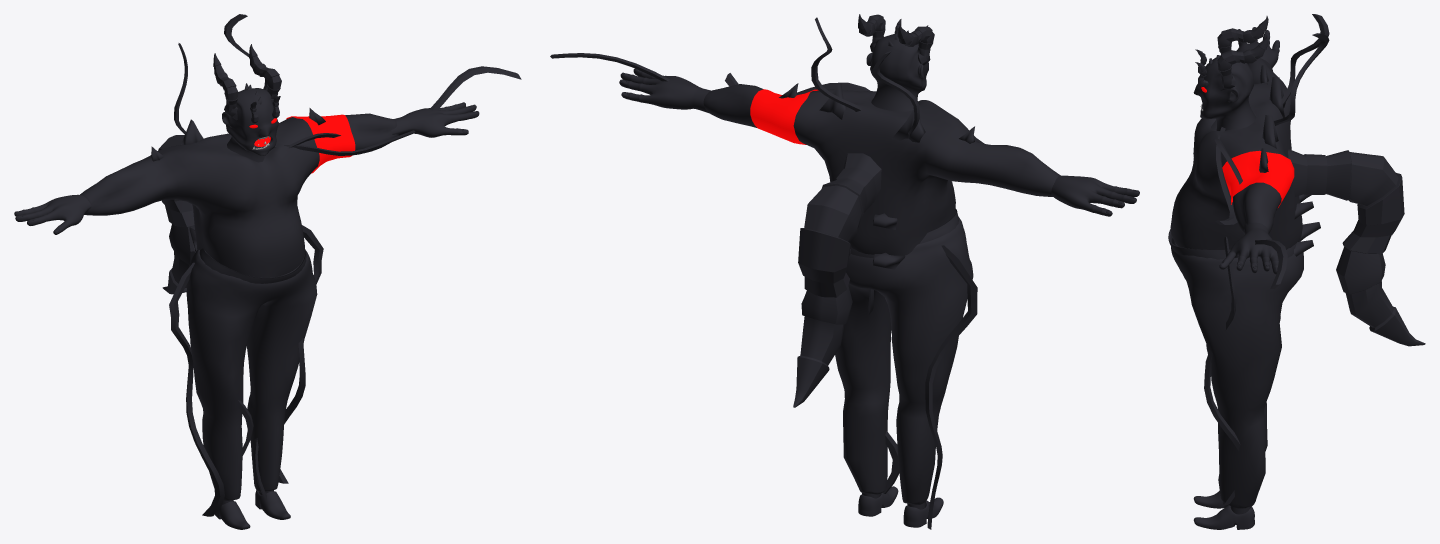
File: Boss_Enemy.fbx
3 renders of one model, left to right at view 1: azimuth 30°, elevation 25°; view 2: azimuth 150°, elevation 25°; view 3: azimuth 270°, elevation 25°, orthographic. The views are drawn at different scales.
Visible parts, largest first — view 1: boss_torso, Boss_Pants, Boss_face, Backhorn, l_leg_Strip1, Boss_right_hand, Boss_Left_hand, polySurface51, r_leg_strip1, R_ARM_Tendril2, boss_belt, dhornleft (+4 smaller); view 2: Boss_Pants, boss_torso, Backhorn, Boss_face, Boss_right_hand, Boss_Left_hand, l_leg_Strip1, polySurface51, R_ARM_Tendril2, dhornleft, Boss_r_shoe, boss_l_shoe (+2 smaller); view 3: Boss_Pants, boss_torso, Backhorn, Boss_face, polySurface51, Boss_right_hand, r_leg_strip1, Boss_r_shoe, dhornright, R_ARM_Tendril2, dhornleft, backspike (+8 smaller).
Part boxes in pixels (bbox=[...]): boss_torso: bbox=[80, 113, 398, 277]; Boss_Pants: bbox=[186, 249, 317, 500]; Boss_face: bbox=[222, 88, 280, 162]; Backhorn: bbox=[158, 135, 194, 294]; l_leg_Strip1: bbox=[169, 262, 224, 516]; Boss_right_hand: bbox=[391, 102, 479, 137]; Boss_Left_hand: bbox=[14, 194, 91, 234]; polySurface51: bbox=[286, 114, 355, 173]; r_leg_strip1: bbox=[278, 225, 323, 483]; R_ARM_Tendril2: bbox=[288, 66, 521, 148]; boss_belt: bbox=[199, 248, 306, 283]; dhornleft: bbox=[213, 53, 238, 120]; Boss_Pants: bbox=[835, 216, 973, 504]; boss_torso: bbox=[703, 84, 1059, 255]; Backhorn: bbox=[793, 153, 881, 407]; Boss_face: bbox=[866, 19, 928, 111]; Boss_right_hand: bbox=[619, 68, 710, 112]; Boss_Left_hand: bbox=[1051, 175, 1139, 216]; l_leg_Strip1: bbox=[925, 245, 977, 529]; polySurface51: bbox=[750, 89, 818, 144]; R_ARM_Tendril2: bbox=[550, 53, 870, 94]; dhornleft: bbox=[897, 24, 934, 65]; Boss_r_shoe: bbox=[858, 486, 898, 516]; boss_l_shoe: bbox=[903, 497, 943, 527]; Boss_Pants: bbox=[1171, 238, 1303, 508]; boss_torso: bbox=[1170, 58, 1302, 249]; Backhorn: bbox=[1288, 149, 1425, 346]; Boss_face: bbox=[1193, 49, 1256, 130]; polySurface51: bbox=[1222, 150, 1294, 207]; Boss_right_hand: bbox=[1219, 222, 1278, 274]; r_leg_strip1: bbox=[1204, 236, 1240, 505]; Boss_r_shoe: bbox=[1193, 505, 1254, 529]; dhornright: bbox=[1217, 35, 1268, 90]; R_ARM_Tendril2: bbox=[1214, 138, 1287, 288]; dhornleft: bbox=[1217, 16, 1268, 54]; backspike: bbox=[1294, 194, 1320, 256].
Bounding box in the file's own units: 24.18 × 20.83 × 9.74.
